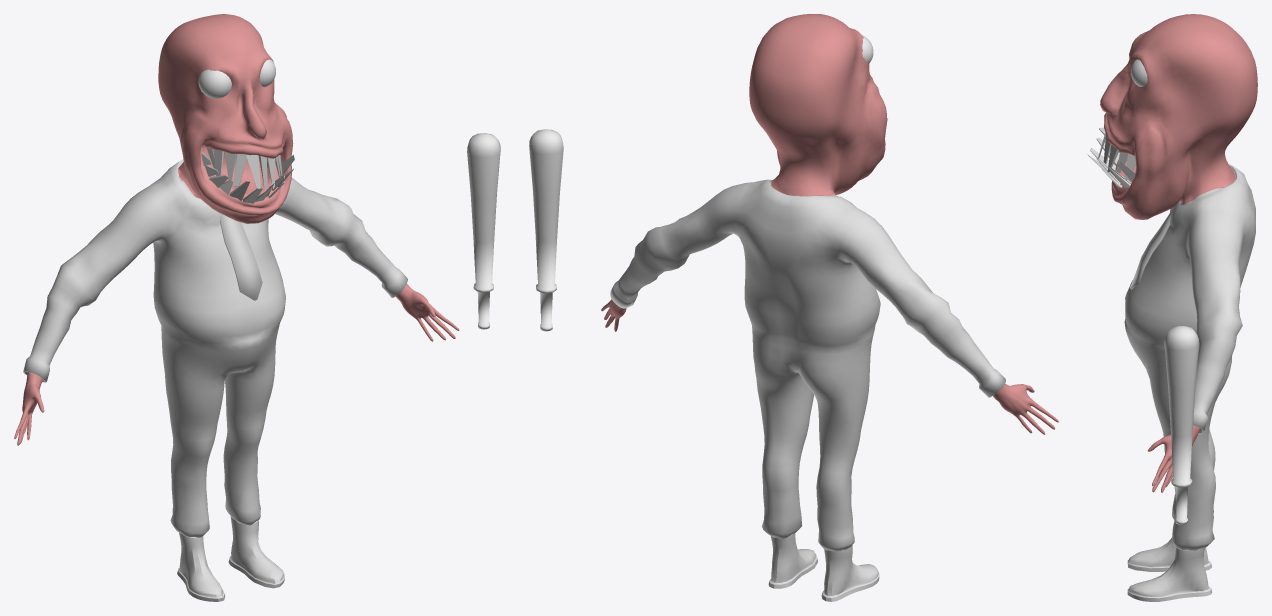
Rendered from Gunnar2_MESH.fbx.
3 renders of one model, left to right at view 1: azimuth 30°, elevation 25°; view 2: azimuth 150°, elevation 25°; view 3: azimuth 270°, elevation 25°, orthographic. The views are drawn at different scales.
Parts seen in each view (by area): view 1: GunnarBody_LP, Cylinder, GunnarBoots_LP, GunnarTeeth_LP, GunnarTie_LP, Eyes.001; view 2: GunnarBody_LP, Cylinder, GunnarBoots_LP; view 3: GunnarBody_LP, Cylinder, GunnarBoots_LP, GunnarTeeth_LP, GunnarTie_LP, Eyes.001.
Part boxes in pixels (<box>): GunnarBody_LP: <box>14,14,459,537</box>; Cylinder: <box>467,133,500,329</box>; GunnarBoots_LP: <box>177,516,284,601</box>; GunnarTeeth_LP: <box>201,147,294,203</box>; GunnarTie_LP: <box>220,214,262,300</box>; Eyes.001: <box>198,59,275,98</box>; GunnarBody_LP: <box>601,14,1058,551</box>; Cylinder: <box>529,129,563,331</box>; GunnarBoots_LP: <box>768,533,879,601</box>; GunnarBody_LP: <box>1100,14,1257,550</box>; Cylinder: <box>1164,326,1199,524</box>; GunnarBoots_LP: <box>1127,538,1211,601</box>; GunnarTeeth_LP: <box>1087,127,1135,187</box>; GunnarTie_LP: <box>1130,208,1174,289</box>; Eyes.001: <box>1131,38,1147,86</box>.
Bounding box in the file's own units: 193 × 204 × 56.51.
